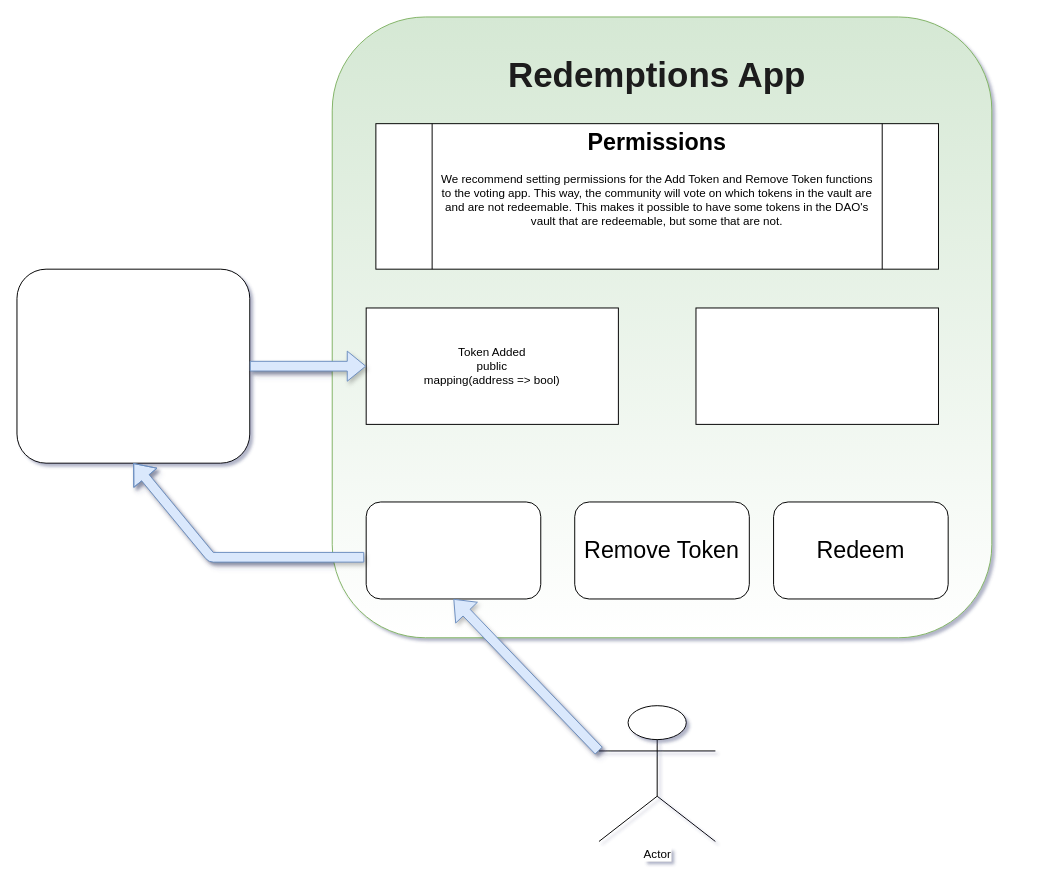
The diagram is 1049 pixels wide and 885 high, and some of its shapes have lost their labels. The centre of each missing label's shape, as x and y in pixels:
"Add Token" belongs at (x=453, y=550).
"redemptionTokenList public address [ ]" belongs at (x=816, y=365).
"Voting App" belongs at (x=133, y=365).
